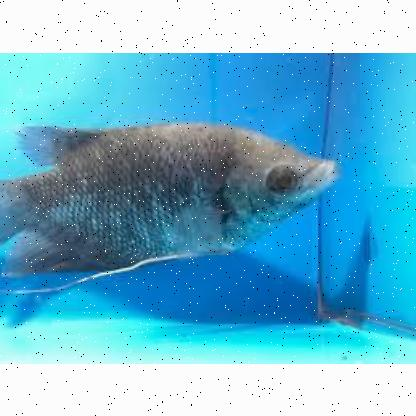gurame: (0, 111, 338, 304)
